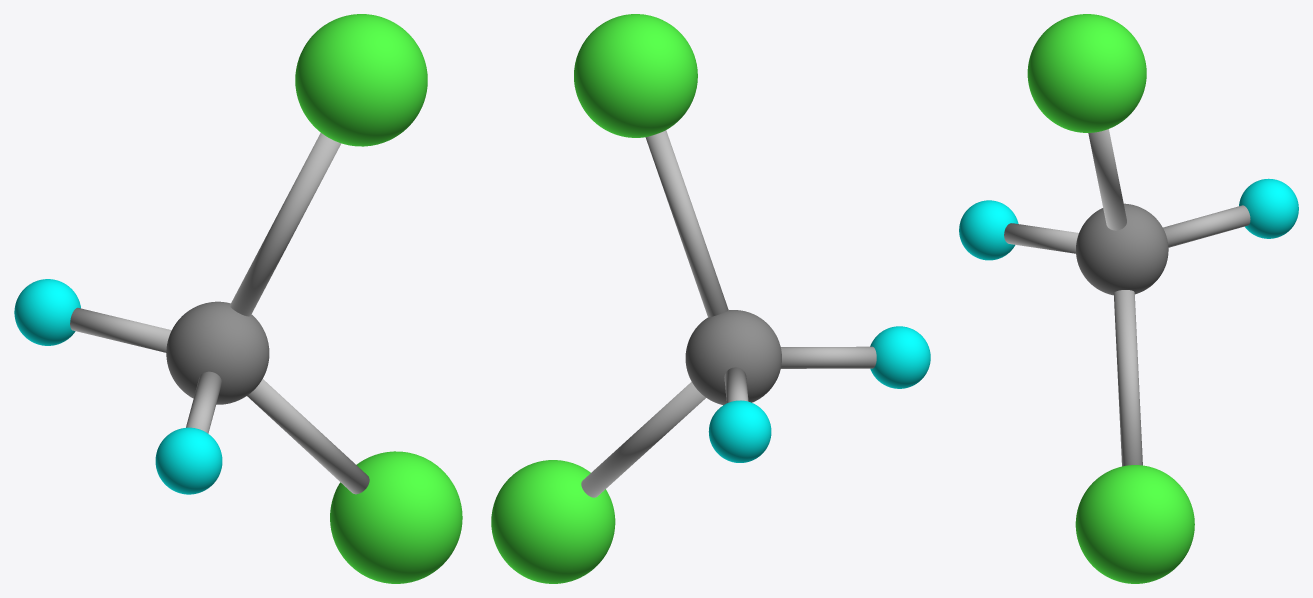
File: dichloromethane.glb
3 renders of one model, left to right at view 1: azimuth 30°, elevation 25°; view 2: azimuth 150°, elevation 25°; view 3: azimuth 270°, elevation 25°, orthographic. The views are drawn at different scales.
Parts seen in each view (by area): view 1: CMAtom_0; view 2: CMAtom_0; view 3: CMAtom_0.
Part boxes in pixels (bbox=[...]): CMAtom_0: bbox=[14, 14, 462, 583]; CMAtom_0: bbox=[491, 14, 930, 583]; CMAtom_0: bbox=[959, 14, 1298, 583].
Size of the model in its own units: 0.2586 by 0.3903 by 0.2259.
